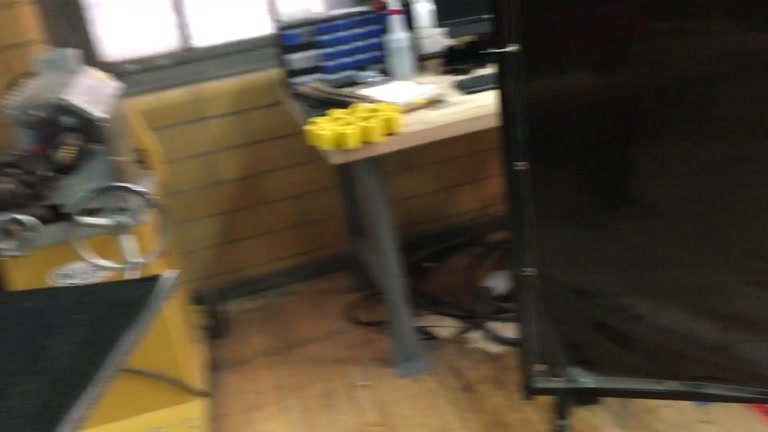gear: (301, 100, 400, 149)
